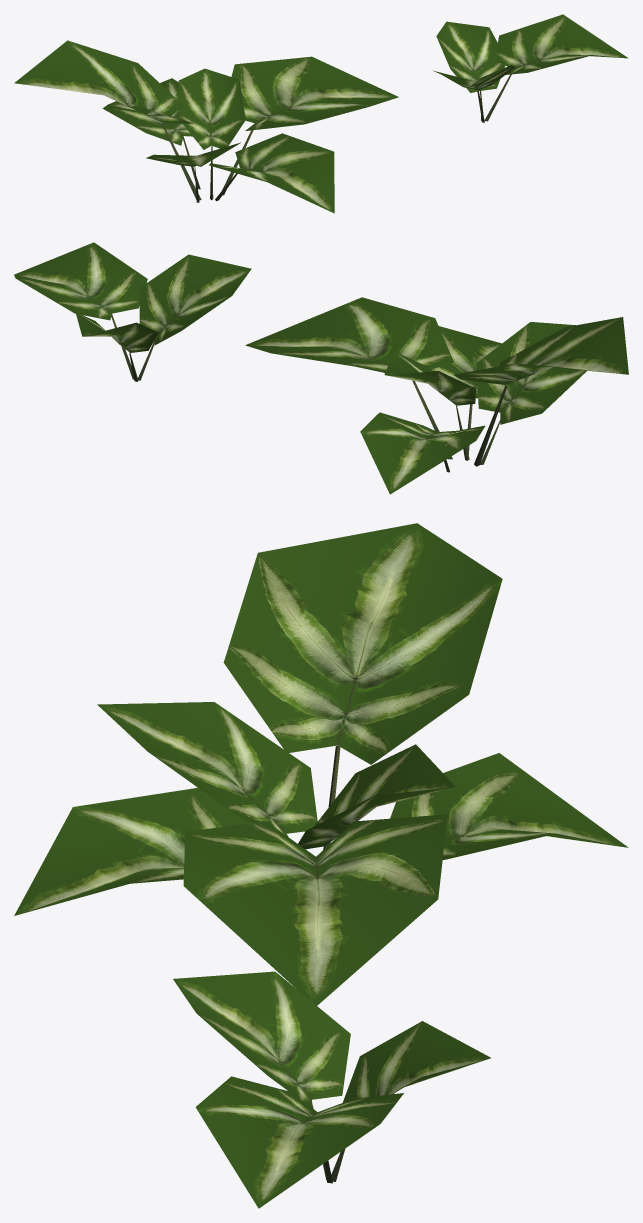
File: Spider brake_m.FBX
3 views of the same model, one above another, from view 1: azimuth 30°, elevation 25°; view 2: azimuth 150°, elevation 25°; view 3: azimuth 270°, elevation 25° (orthographic). The views are drawn at different scales.
Parts seen in each view (by area): view 1: Spider brake, Spider brake002; view 2: Spider brake, Spider brake002; view 3: Spider brake, Spider brake002.
Boxes of the visible parts, box(x1,y1,x2,y2) form: Spider brake: box(14, 40, 398, 213); Spider brake002: box(433, 14, 628, 122); Spider brake: box(245, 297, 628, 494); Spider brake002: box(14, 242, 251, 381); Spider brake: box(14, 523, 628, 1005); Spider brake002: box(173, 971, 490, 1208).
Bounding box in the file's own units: 139 × 33.31 × 68.44.
